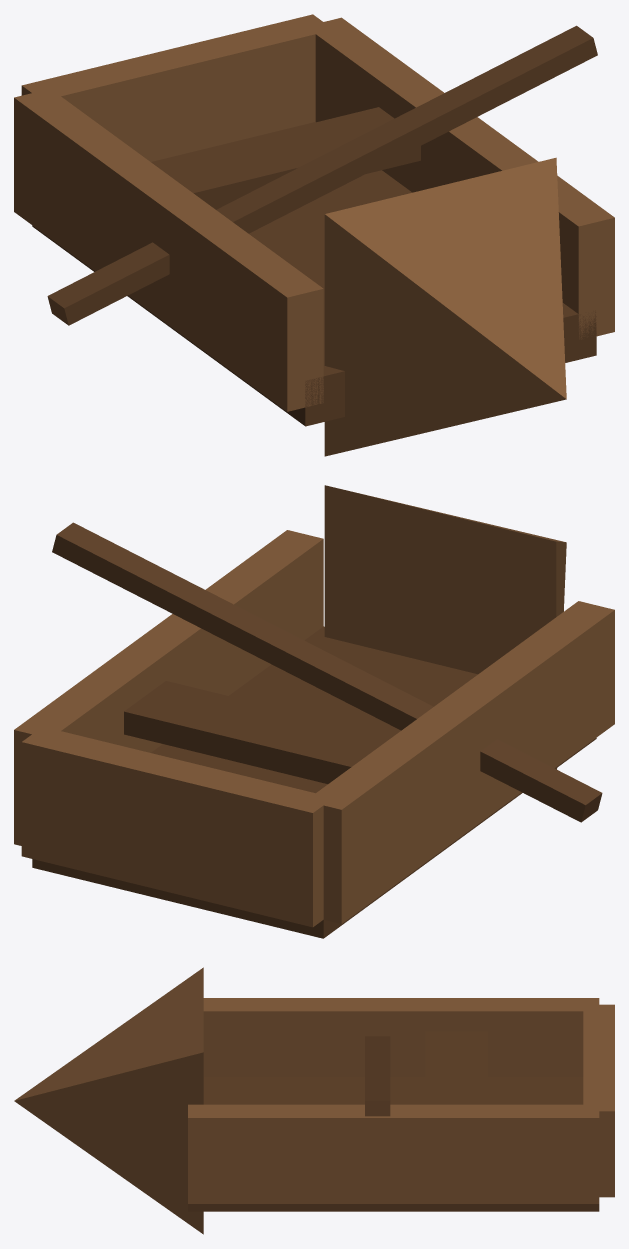
Rendered from boat.glb.
3 views of the same model, one above another, from view 1: azimuth 30°, elevation 25°; view 2: azimuth 150°, elevation 25°; view 3: azimuth 270°, elevation 25° (orthographic). The views are drawn at different scales.
Parts seen in each view (by area): view 1: boat; view 2: boat; view 3: boat.
Part boxes in pixels (bbox=[...]): boat: bbox=[14, 14, 614, 456]; boat: bbox=[14, 485, 614, 938]; boat: bbox=[14, 967, 614, 1234].
Size of the model in its own units: 0.1466 by 0.0652 by 0.19.
